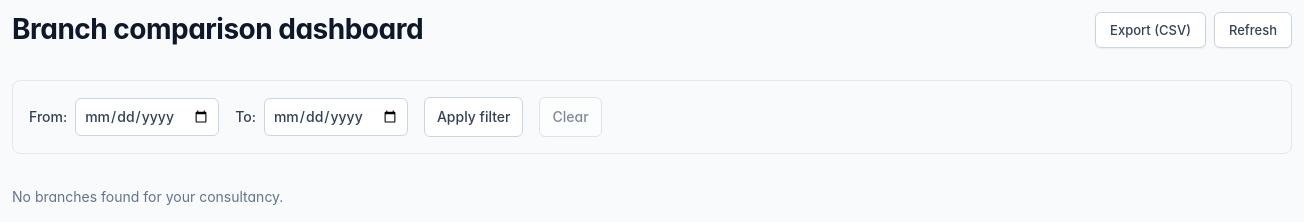
OwnerDashboardPage › should enable clear button when filters are set
Type "2024-01-01" into the date field with test id "start-date-input" at [147, 117], box [75,98,219,136]
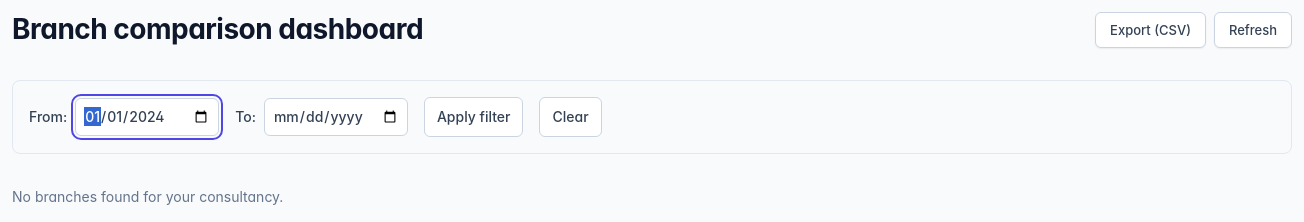
Expected: the button with test id "clear-filter" is enabled, [540,97,602,137]
